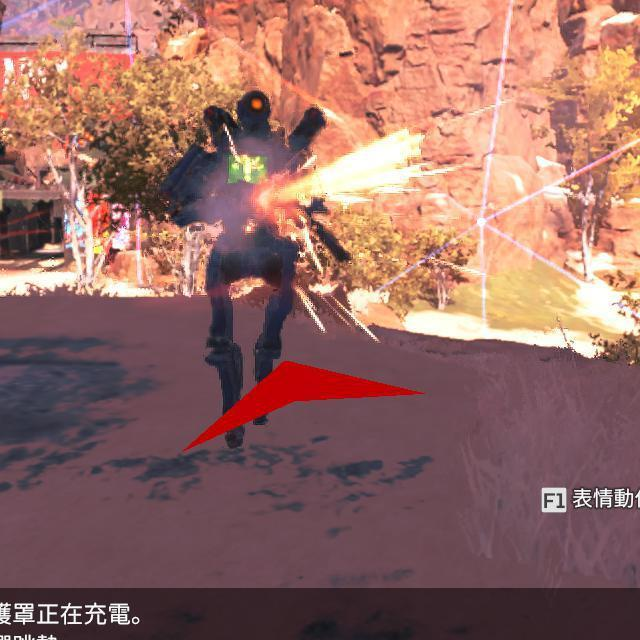avatar: (153, 87, 329, 453)
